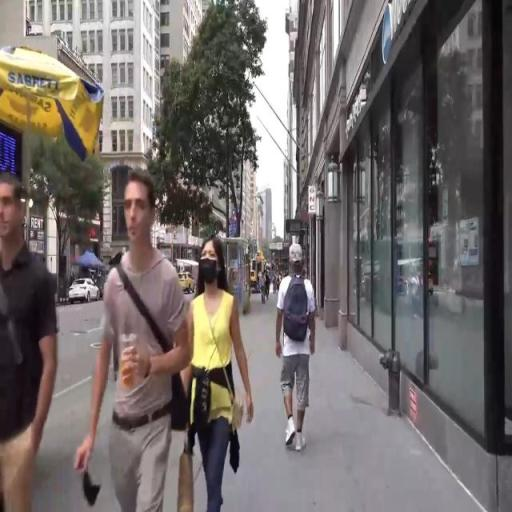person: (99, 174, 189, 512), (1, 164, 65, 512), (186, 226, 254, 512), (276, 243, 318, 467), (261, 273, 267, 307), (267, 267, 273, 298)
